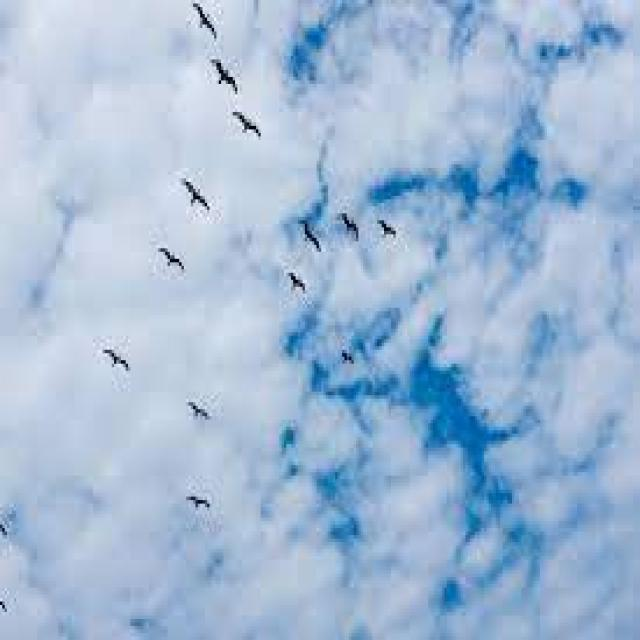bird: (178, 472, 221, 526), (176, 168, 216, 226), (288, 208, 326, 258), (188, 0, 223, 48), (228, 104, 268, 144), (373, 212, 410, 252), (151, 238, 192, 274), (96, 344, 136, 380), (212, 58, 244, 102), (182, 392, 220, 428), (286, 261, 312, 309), (338, 200, 364, 247), (338, 341, 365, 374)
